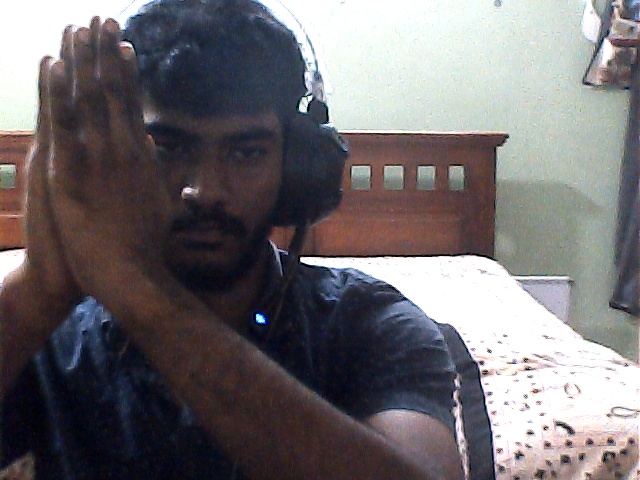Sign: (8, 16, 170, 336)
